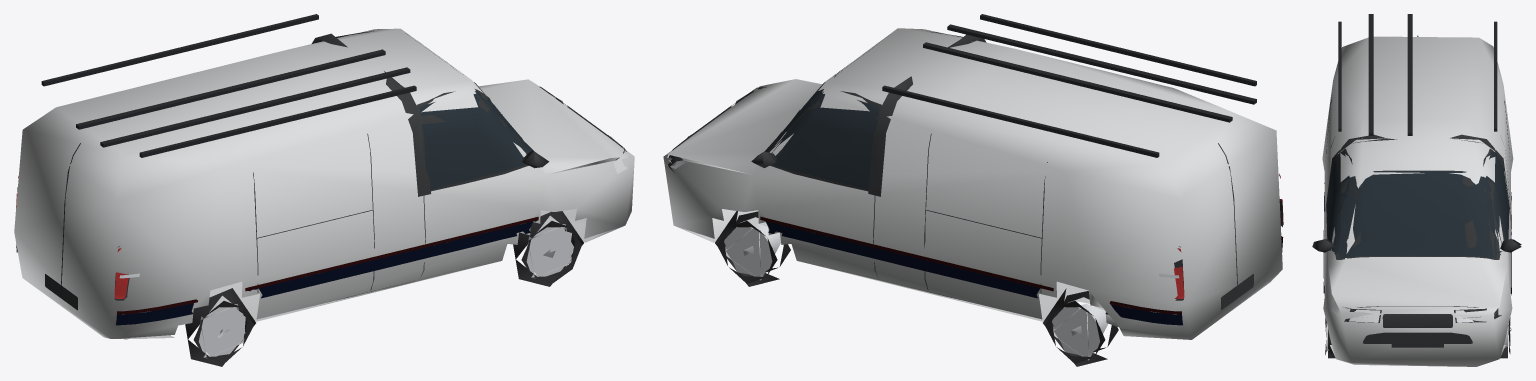
The model's file is pro_plomb_ufar.glb.
3 views of the same model, side by side, from view 1: azimuth 30°, elevation 25°; view 2: azimuth 150°, elevation 25°; view 3: azimuth 270°, elevation 25° (orthographic). The views are drawn at different scales.
Visible parts, largest first — view 1: Body, Glass-1, ProStripe-1, WheelFR, WheelRR, LadderRail-1, LadderRail1, RackRail1, RackRail-1, ProAccent-1, Bpillar-1, WinFrame-1; view 2: Body, Glass1, ProStripe1, WheelRL, WheelFL, LadderRail1, LadderRail-1, RackRail1, RackRail-1, Bpillar1, ProAccent1, WinFrame1; view 3: Body, Windshield, Glass-1, Intake, Glass1, WsFrame, Grille, LadderRail1, LadderRail-1, HeadReflector, RackRail-1, RackRail1 (+10 smaller).
Part boxes in pixels (<box>): Body: <box>14,28,634,338</box>; Glass-1: <box>419,93,530,189</box>; ProStripe-1: <box>116,220,537,325</box>; WheelFR: <box>513,211,583,286</box>; WheelRR: <box>185,288,255,366</box>; LadderRail-1: <box>100,67,410,147</box>; LadderRail1: <box>76,49,385,129</box>; RackRail1: <box>41,14,318,86</box>; RackRail-1: <box>139,85,416,157</box>; ProAccent-1: <box>117,216,538,314</box>; Bpillar-1: <box>384,71,431,196</box>; WinFrame-1: <box>417,89,528,191</box>; Body: <box>663,28,1282,339</box>; Glass1: <box>772,93,879,189</box>; ProStripe1: <box>765,221,1182,325</box>; WheelRL: <box>1043,288,1118,366</box>; WheelFL: <box>715,211,790,286</box>; LadderRail1: <box>923,42,1232,122</box>; LadderRail-1: <box>947,24,1256,104</box>; RackRail1: <box>882,85,1159,157</box>; RackRail-1: <box>980,14,1256,86</box>; Bpillar1: <box>868,76,912,196</box>; ProAccent1: <box>760,216,1181,314</box>; WinFrame1: <box>770,91,881,191</box>; Body: <box>1322,36,1513,366</box>; Windshield: <box>1338,171,1497,258</box>; Glass-1: <box>1326,150,1361,252</box>; Intake: <box>1363,332,1472,343</box>; Glass1: <box>1474,150,1509,252</box>; WsFrame: <box>1335,170,1500,259</box>; Grille: <box>1382,314,1452,327</box>; LadderRail1: <box>1407,14,1412,135</box>; LadderRail-1: <box>1368,14,1373,135</box>; HeadReflector: <box>1331,301,1500,322</box>; RackRail-1: <box>1338,21,1341,131</box>; RackRail1: <box>1494,21,1497,131</box>.
Size of the model in its own units: 5.02 by 2.05 by 2.15.
